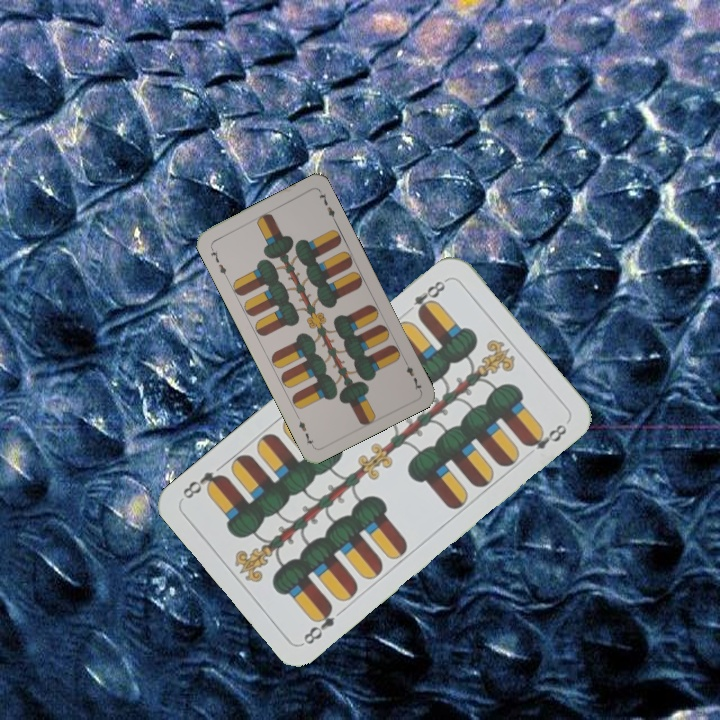E7: (206, 243, 230, 281), (400, 355, 424, 393)
E8: (401, 275, 451, 319), (299, 600, 338, 647)
